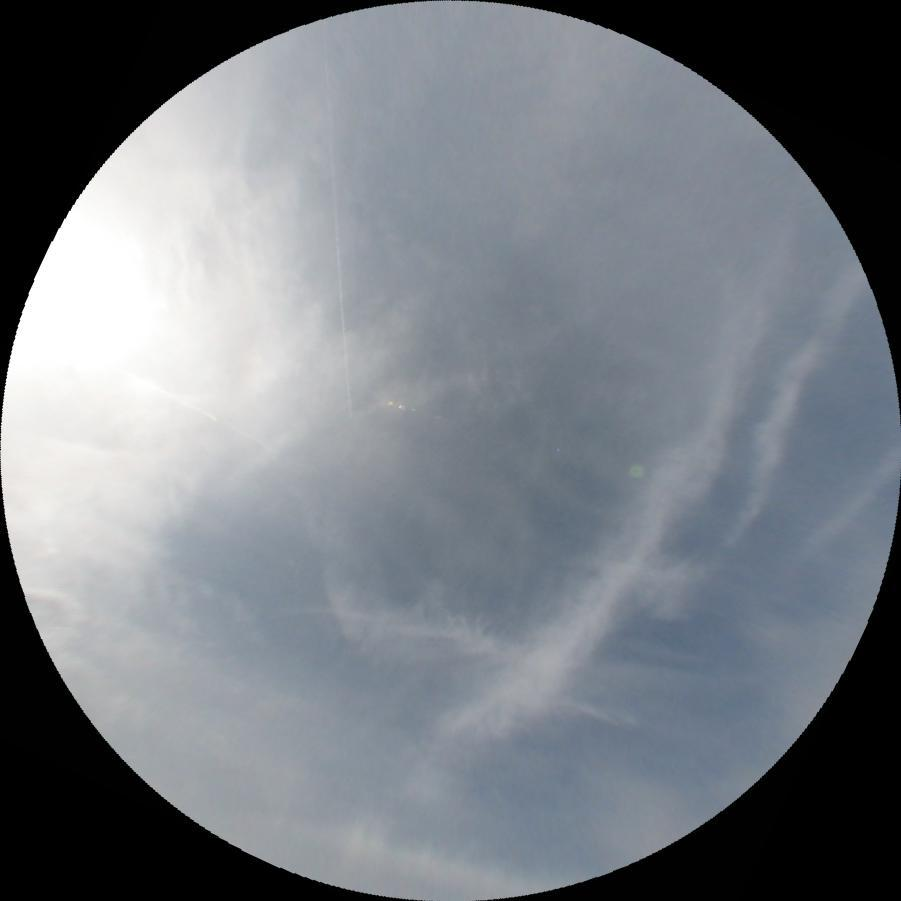contrail young: (321, 19, 353, 418)
parasite: (106, 360, 271, 448)
sun: (0, 198, 185, 415)
